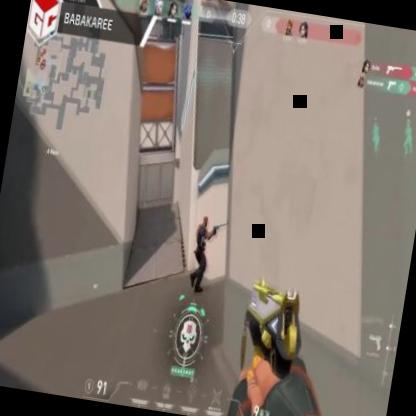enemy: (182, 210, 216, 298)
enemy_head: (199, 214, 208, 232)
